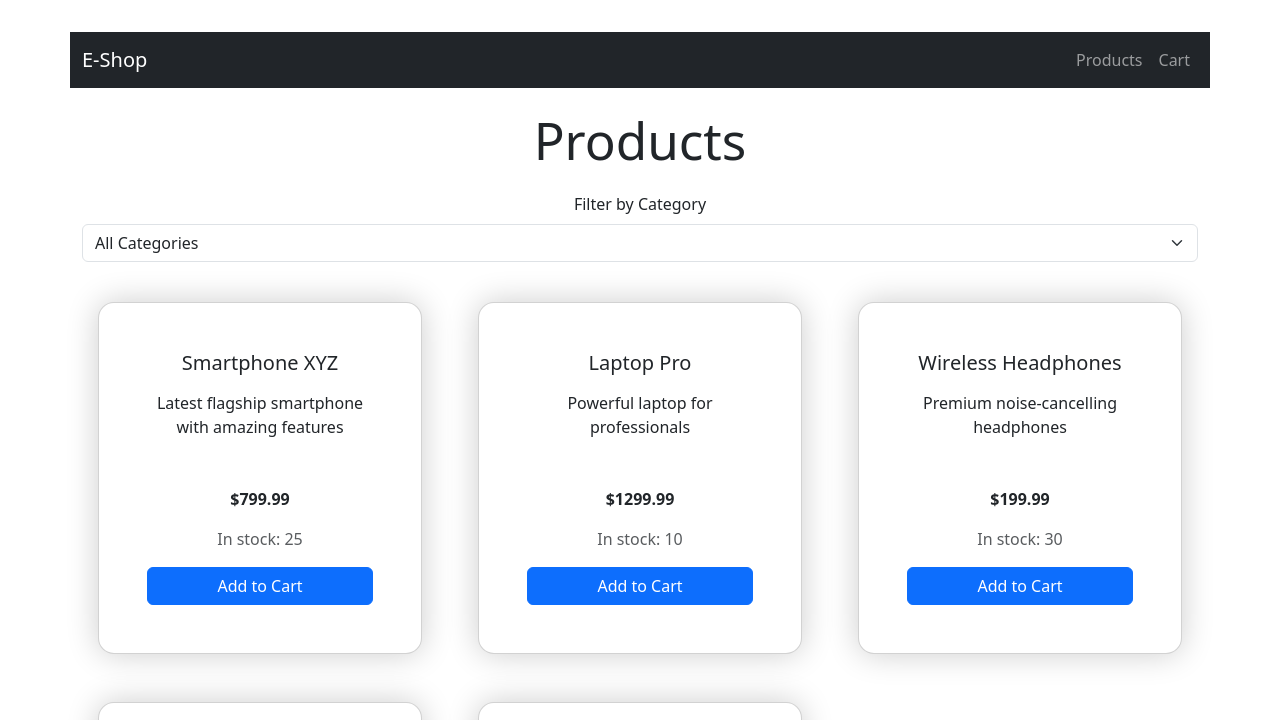
Test case: Products Page › should show "No products found" when no products match the filter
# Select a category
Select "Electronics" in the dropdown with class "form-select" at x=640, y=243, box x1=82 y1=224 x2=1198 y2=262
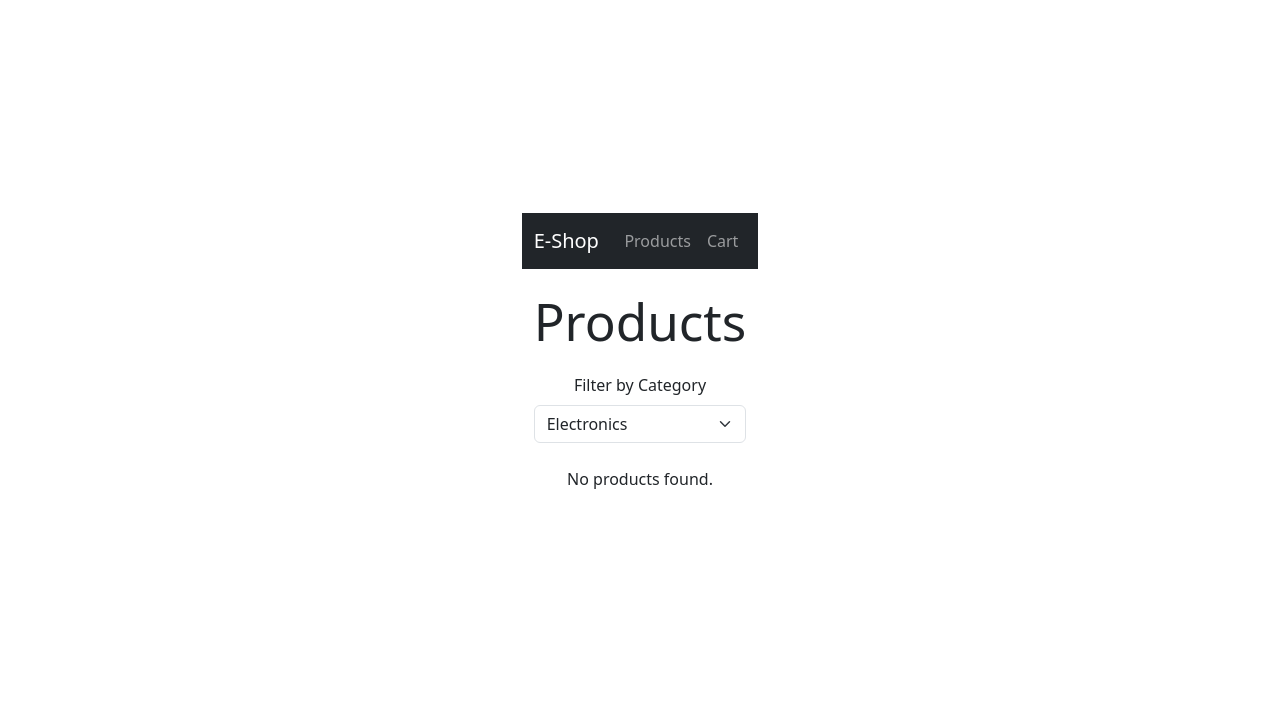
Expected: the text "No products found" is shown, x1=567 y1=468 x2=713 y2=490
